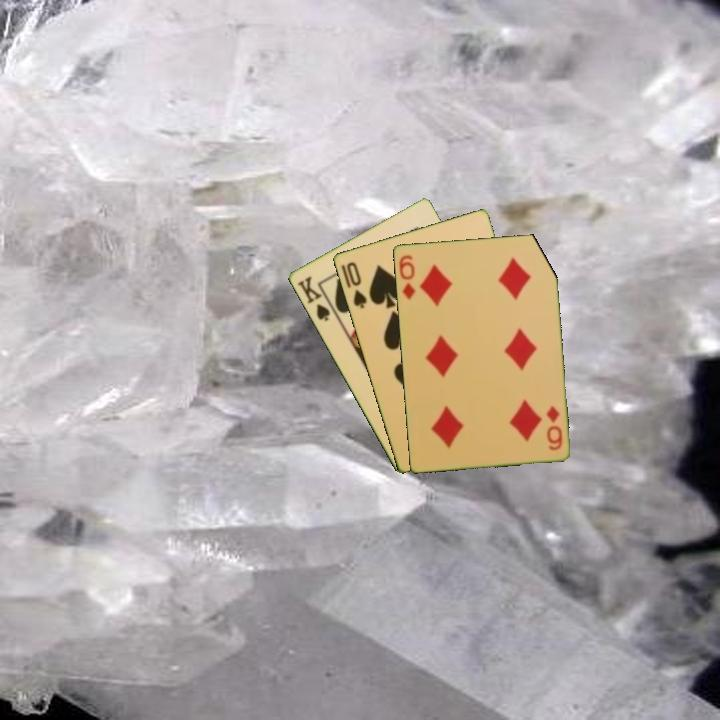10s: (343, 258, 369, 311)
6d: (395, 251, 417, 302), (543, 402, 565, 453)
Ks: (294, 272, 338, 324)
